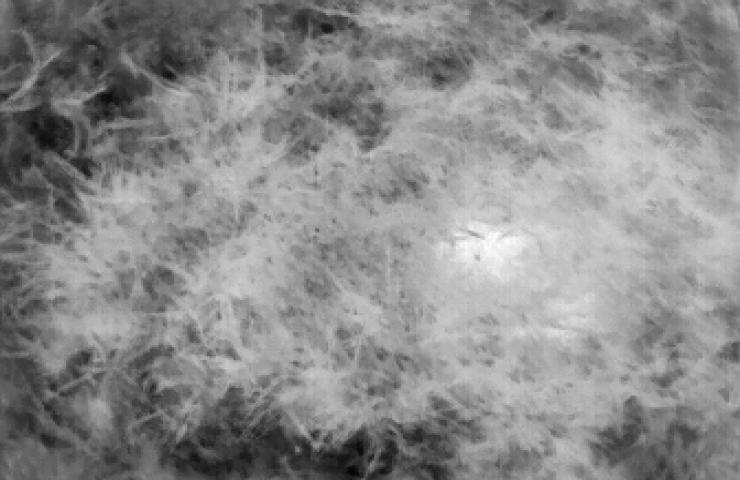landmines: (435, 217, 537, 286)
